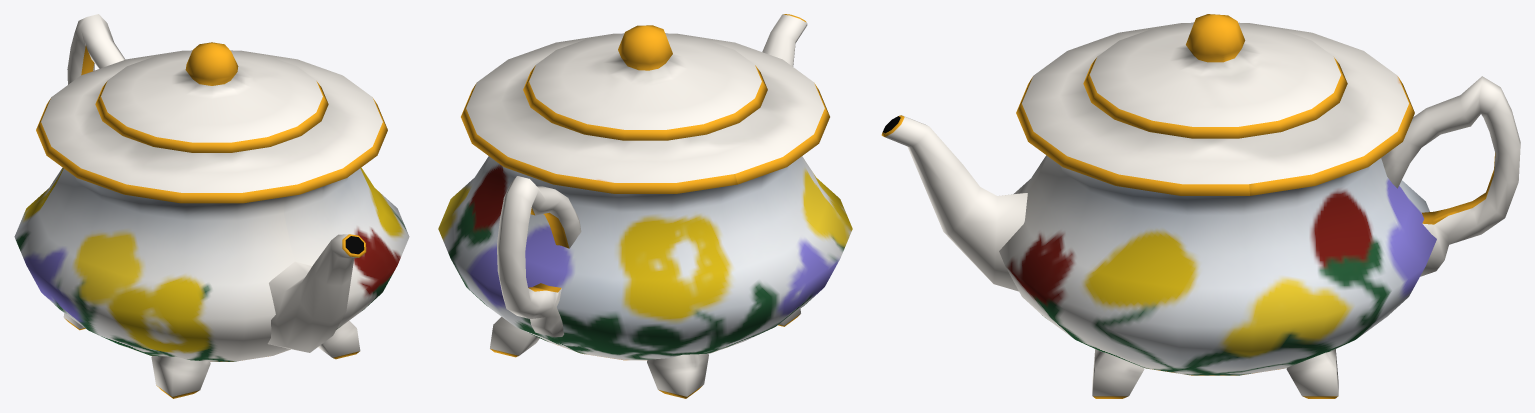
File: tea_pot.glb
The picture shows the model from 3 angles, left to right: view 1: azimuth 30°, elevation 25°; view 2: azimuth 150°, elevation 25°; view 3: azimuth 270°, elevation 25°; orthographic projection. The views are drawn at different scales.
Parts seen in each view (by area): view 1: teapot; view 2: teapot; view 3: teapot.
Part boxes in pixels (x1,y1,x2,y2): teapot: [14, 14, 409, 398]; teapot: [438, 14, 852, 398]; teapot: [881, 14, 1520, 398].
Bounding box in the file's own units: 0.2684 × 0.2239 × 0.3891.
1 material, 1 textured.
